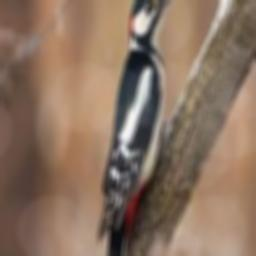Woodpecker: (98, 0, 177, 256)
